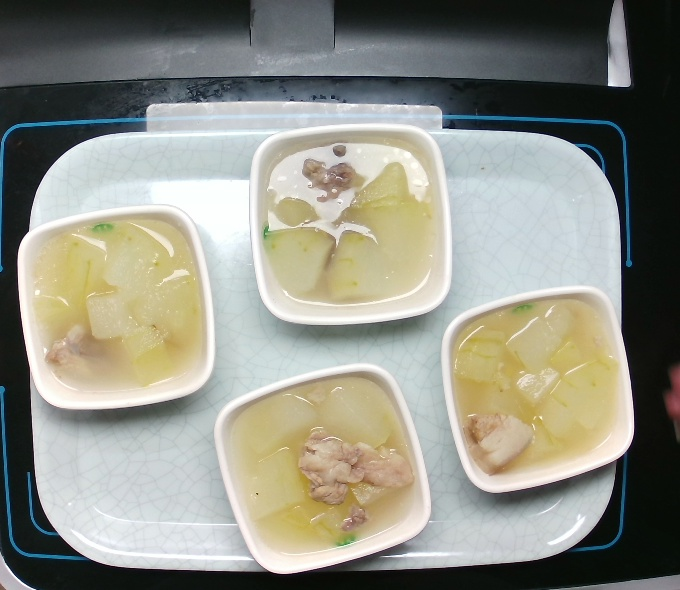wcq-DongGuaZhuRouTang: (219, 375, 425, 558), (449, 303, 632, 476), (21, 222, 204, 395), (259, 142, 442, 315)
